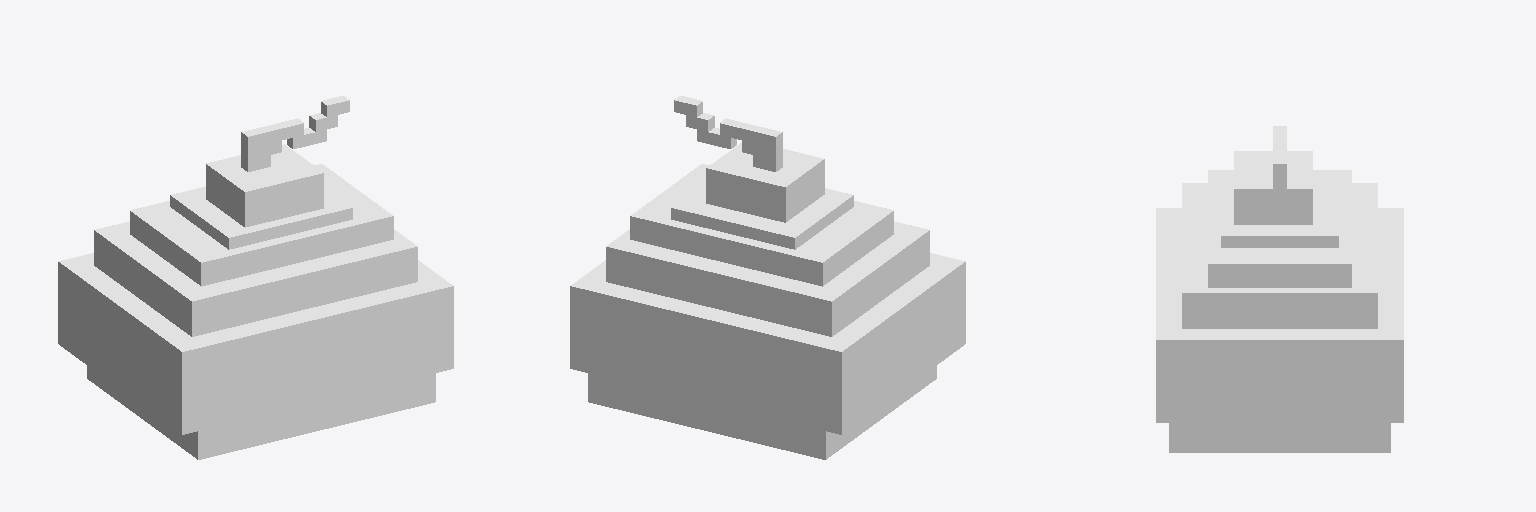
Rendered from CBINKA-3.obj.
The picture shows the model from 3 angles: view 1: azimuth 30°, elevation 25°; view 2: azimuth 150°, elevation 25°; view 3: azimuth 270°, elevation 25°; orthographic projection.
Visible parts, largest first — view 1: object 1; view 2: object 1; view 3: object 1.
Part boxes in pixels (x1,y1,x2,y2): object 1: (58, 96, 453, 459); object 1: (570, 96, 965, 459); object 1: (1156, 126, 1403, 452).
Bounding box in the file's own units: 2.4 × 2.3 × 1.9.